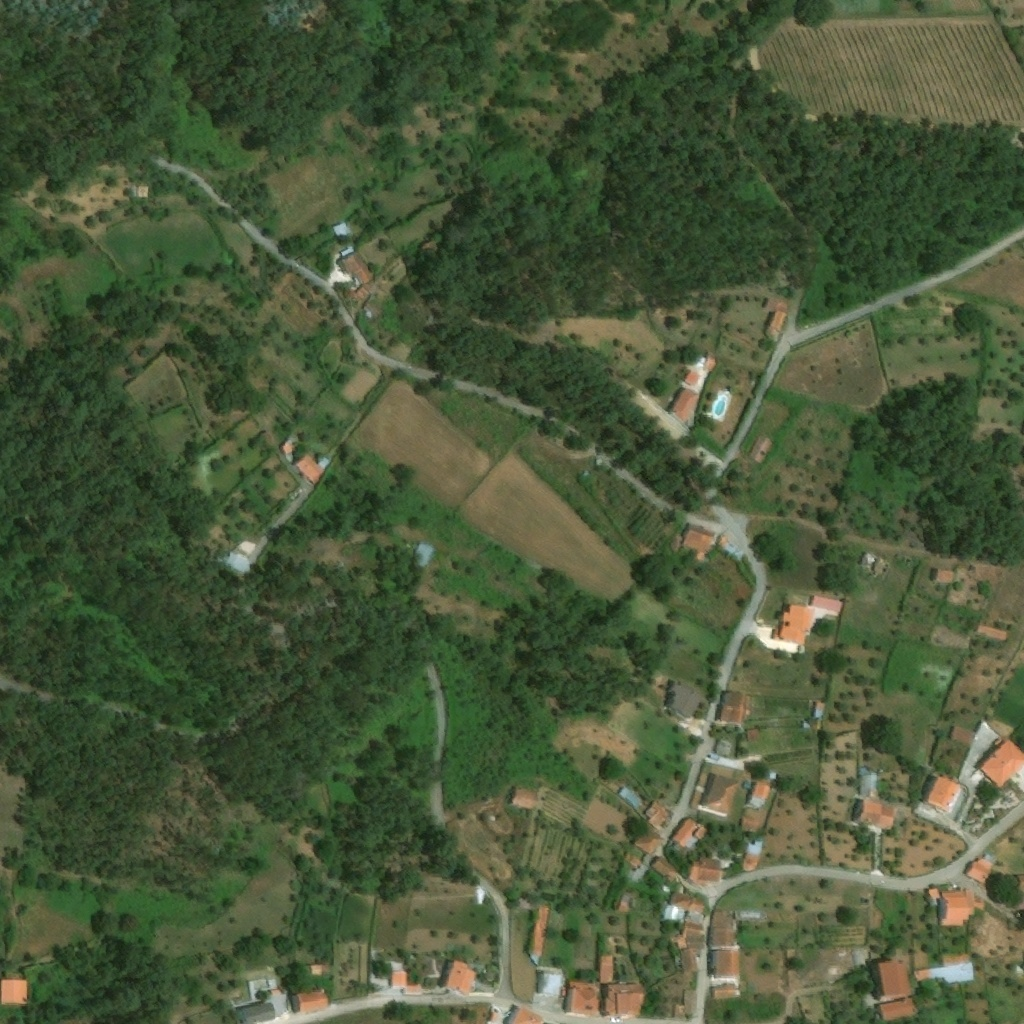0 no-damage: (930, 887, 987, 928), (979, 736, 1023, 788), (698, 774, 742, 820), (925, 773, 965, 814), (667, 677, 704, 720), (776, 604, 814, 645), (680, 523, 718, 563), (602, 983, 650, 1014), (878, 957, 913, 996), (442, 957, 477, 996), (339, 251, 375, 287), (671, 814, 709, 848), (915, 962, 976, 983), (714, 690, 747, 727), (670, 385, 701, 424), (680, 924, 704, 974), (858, 799, 897, 829), (708, 947, 743, 980), (565, 981, 600, 1014), (527, 904, 550, 953), (966, 852, 998, 885), (295, 987, 333, 1014), (878, 996, 918, 1021), (690, 856, 724, 884), (633, 825, 664, 855), (709, 910, 734, 947), (534, 967, 565, 996), (238, 1000, 277, 1023), (295, 454, 323, 485), (510, 786, 543, 811), (644, 800, 671, 830), (651, 854, 679, 881), (748, 436, 774, 465), (0, 980, 28, 1006), (741, 841, 765, 871), (363, 295, 389, 321), (812, 594, 843, 615), (749, 780, 773, 807), (510, 1005, 545, 1023), (950, 725, 976, 749), (741, 808, 764, 834), (766, 310, 788, 337), (859, 768, 880, 795), (411, 544, 433, 569), (390, 971, 420, 989), (618, 786, 641, 809), (298, 963, 331, 979), (979, 624, 1009, 641), (766, 296, 791, 313), (599, 955, 614, 983), (682, 366, 701, 387), (665, 904, 687, 922), (333, 222, 353, 241), (943, 952, 974, 964), (712, 985, 738, 999), (714, 739, 732, 758), (671, 893, 692, 909), (936, 568, 958, 583), (279, 440, 297, 458), (352, 286, 370, 304), (624, 851, 642, 868), (704, 353, 719, 371), (813, 701, 826, 721), (736, 911, 764, 920), (745, 729, 762, 743), (687, 909, 705, 922), (689, 899, 707, 912), (619, 902, 629, 912), (770, 773, 778, 781)
4 un-classified: (1016, 873, 1023, 891)
